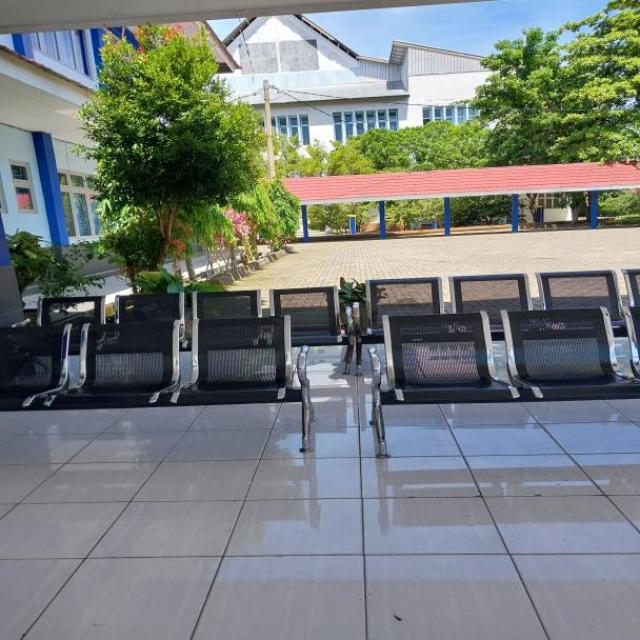chair ahead at: (369, 304, 515, 417), (504, 302, 627, 401), (72, 322, 187, 421), (186, 322, 304, 410), (6, 322, 65, 410)
